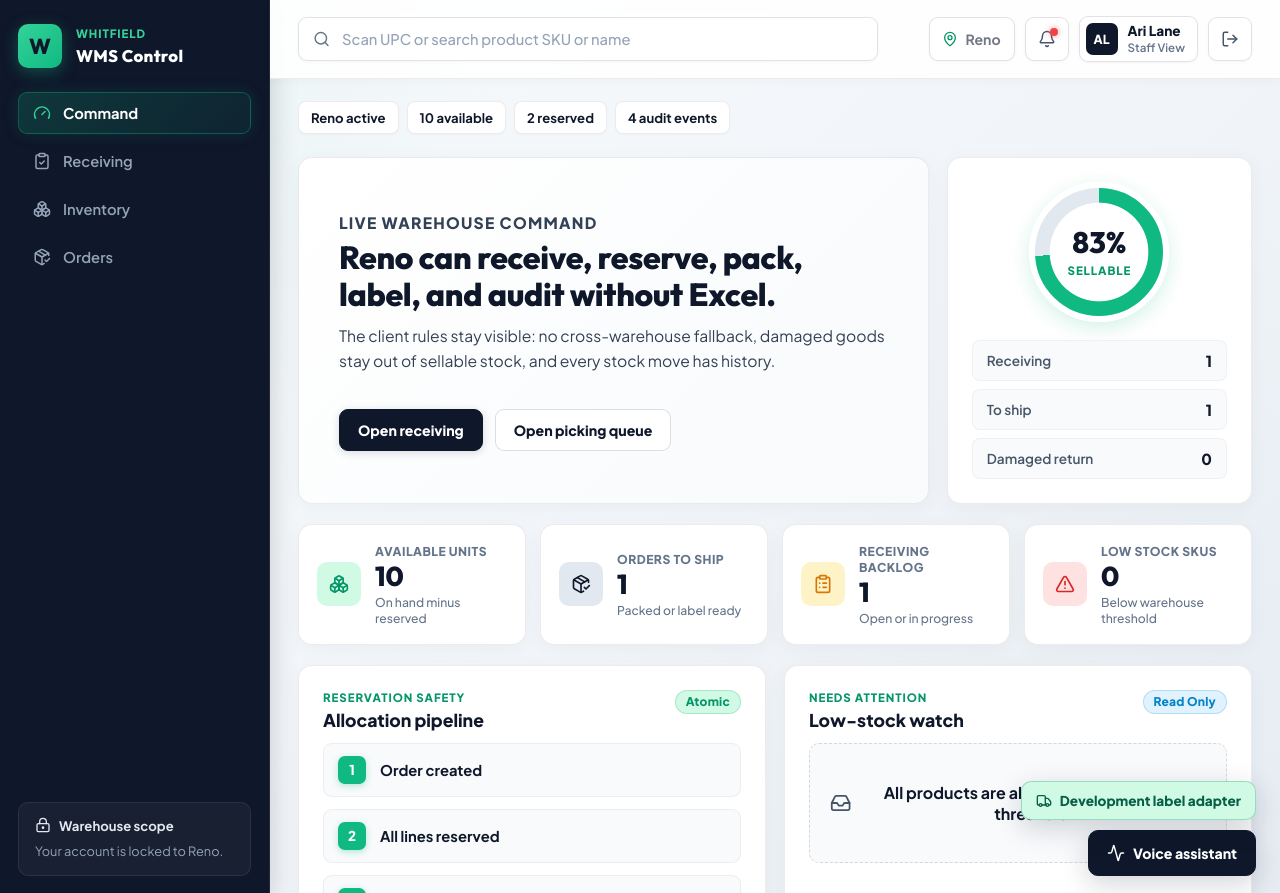
application permission navigation › keeps audit and owner controls out of a staff session
expect the button "Receiving" is shown: met, box [18, 140, 251, 182]
expect the dropdown named "Warehouse" is disabled: met, box [966, 30, 1002, 48]
Click the button named "Open low-stock notifications": (1047, 39) [1025, 17, 1069, 61]
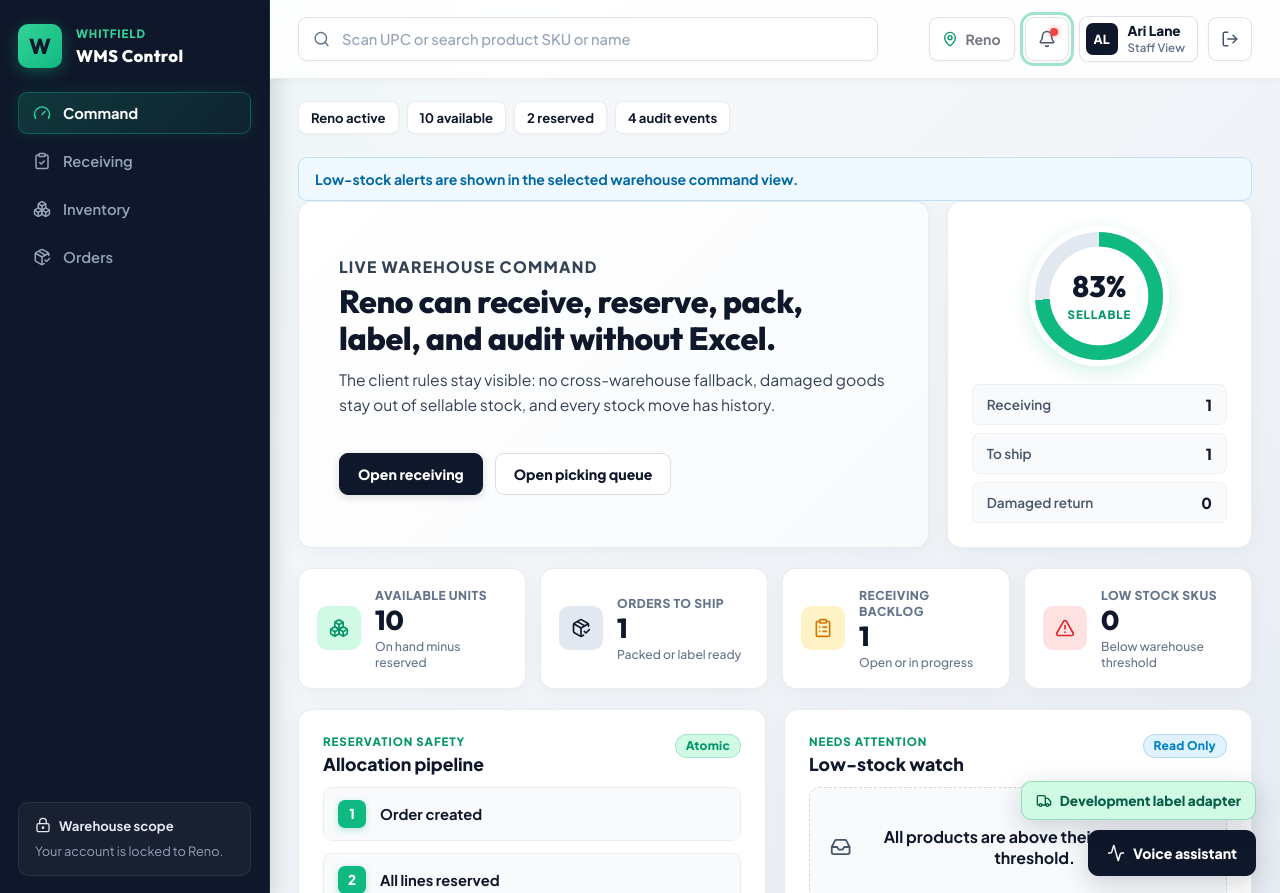
expect the text "Low-stock alerts are shown in the selected warehouse command view." is shown: met, box [298, 157, 1252, 201]
